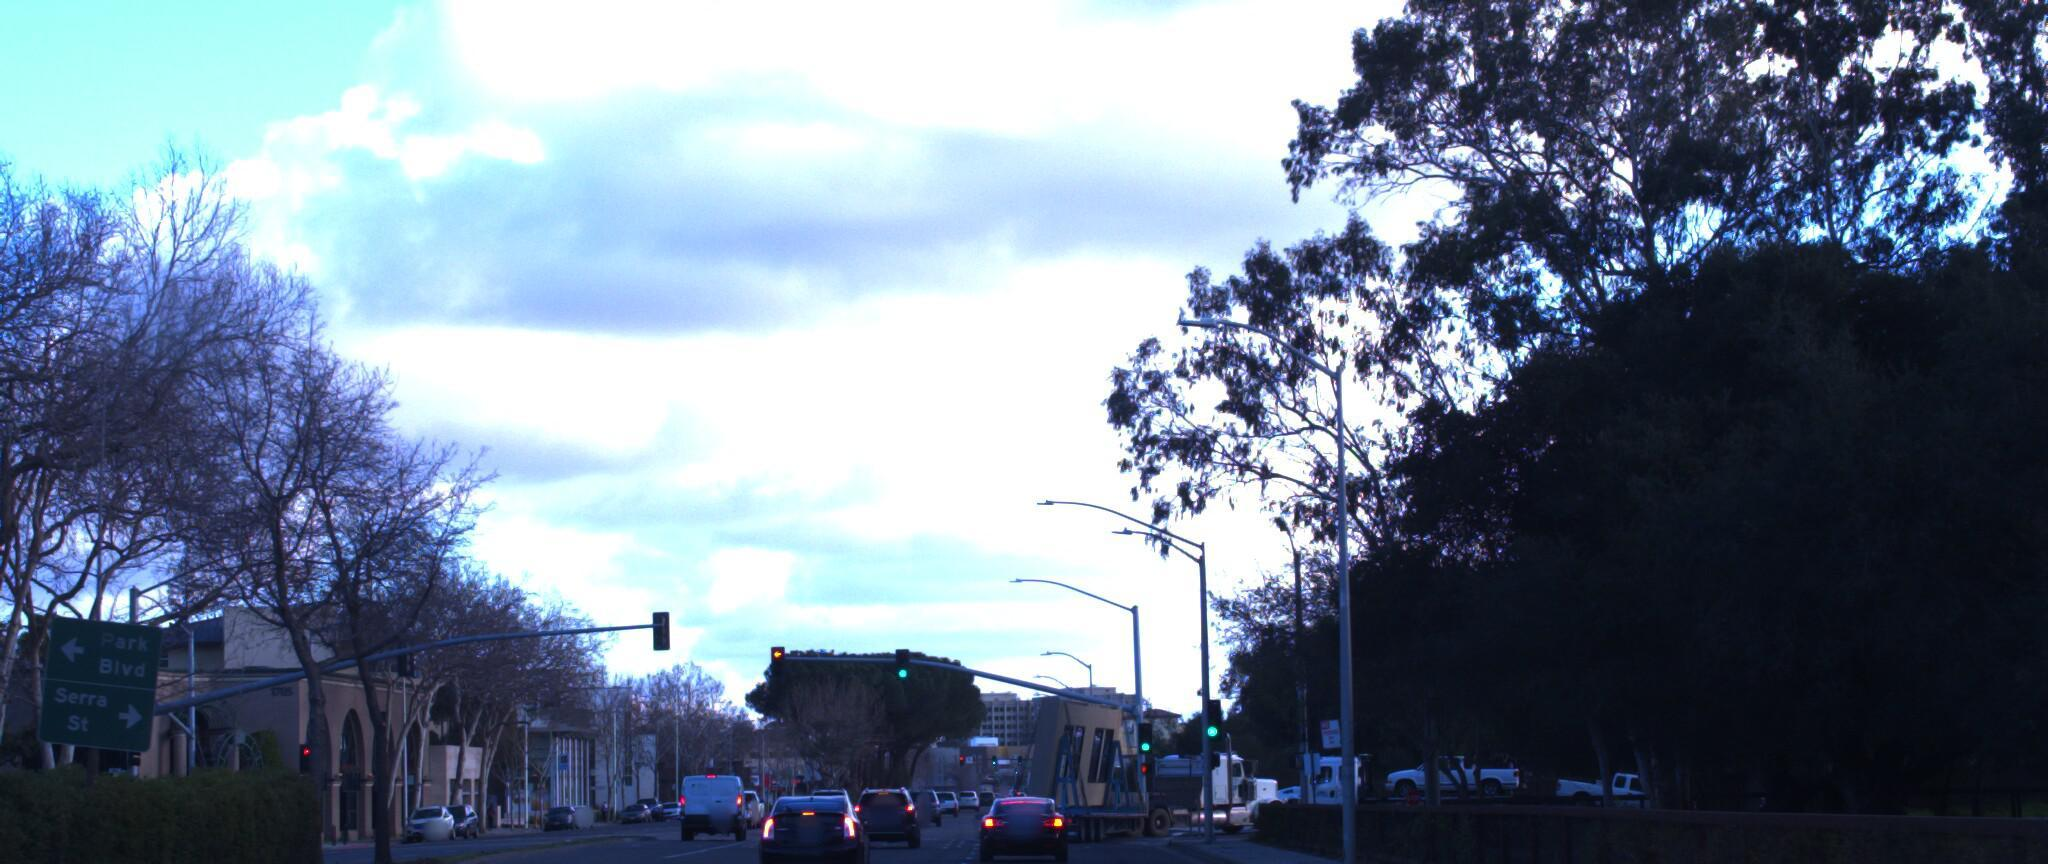car: (755, 767, 871, 864), (970, 773, 1059, 843), (862, 764, 931, 827)
